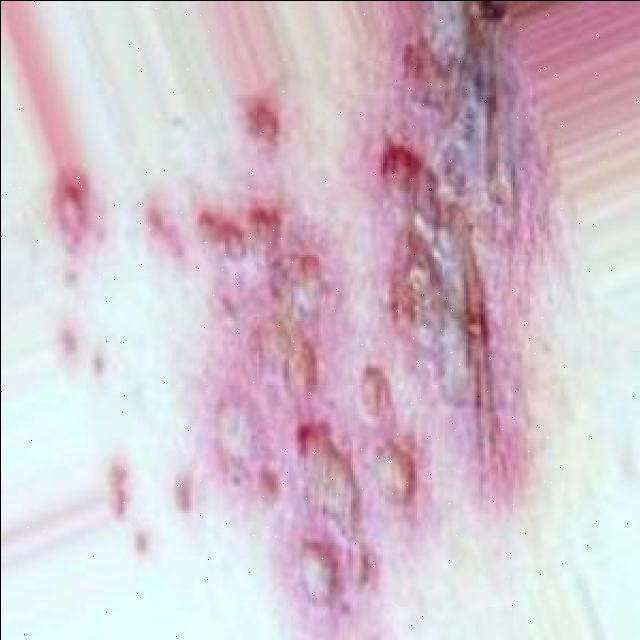Shingles: (41, 25, 519, 618)
